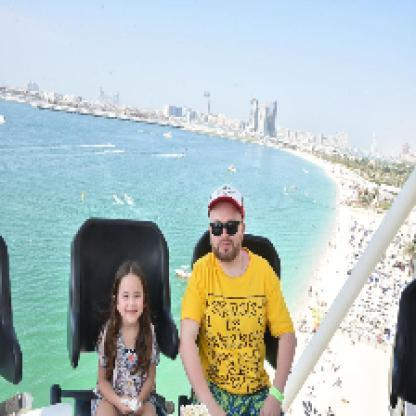child: (92, 261, 163, 415)
